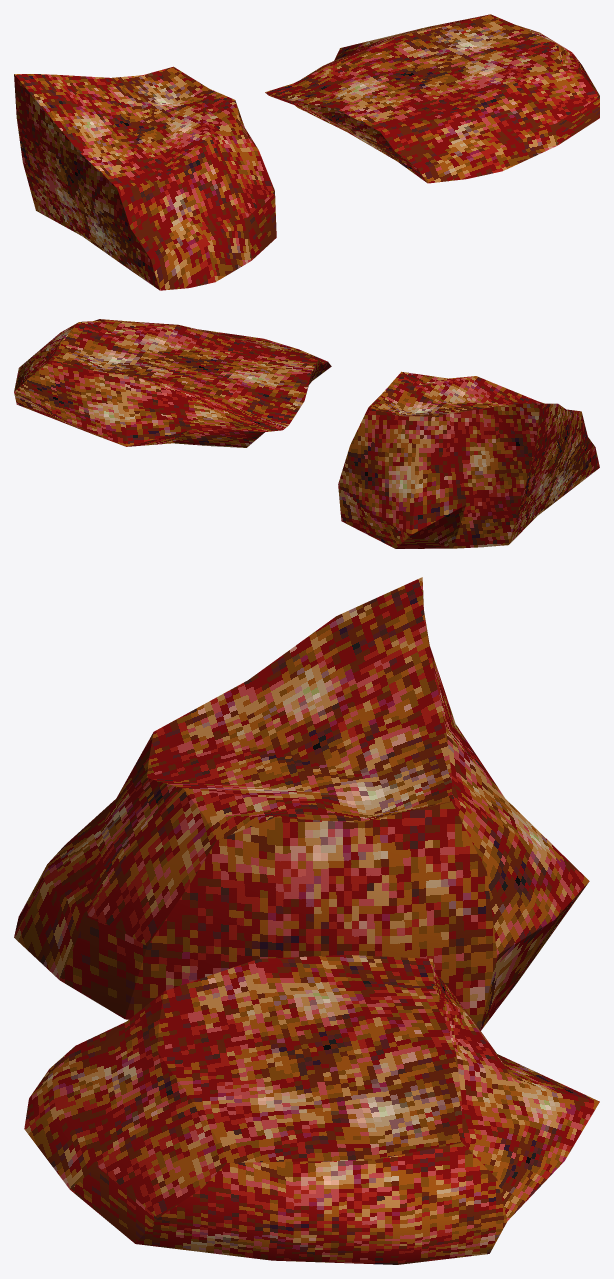
File: GibMeats.glb
The picture shows the model from 3 angles, top to bottom: view 1: azimuth 30°, elevation 25°; view 2: azimuth 150°, elevation 25°; view 3: azimuth 270°, elevation 25°; orthographic projection. The views are drawn at different scales.
Parts seen in each view (by area): view 1: Cube, Cube.007; view 2: Cube, Cube.007; view 3: Cube, Cube.007.
Boxes of the visible parts, x1,y1,x2,y2 form: Cube: (14,66,276,290); Cube.007: (265,14,599,183); Cube: (338,371,599,548); Cube.007: (14,319,331,447); Cube: (14,577,589,1030); Cube.007: (24,955,599,1264).
Bounding box in the file's own units: 14.11 × 4.02 × 7.23.
Materials: 1 (1 with a texture image).
